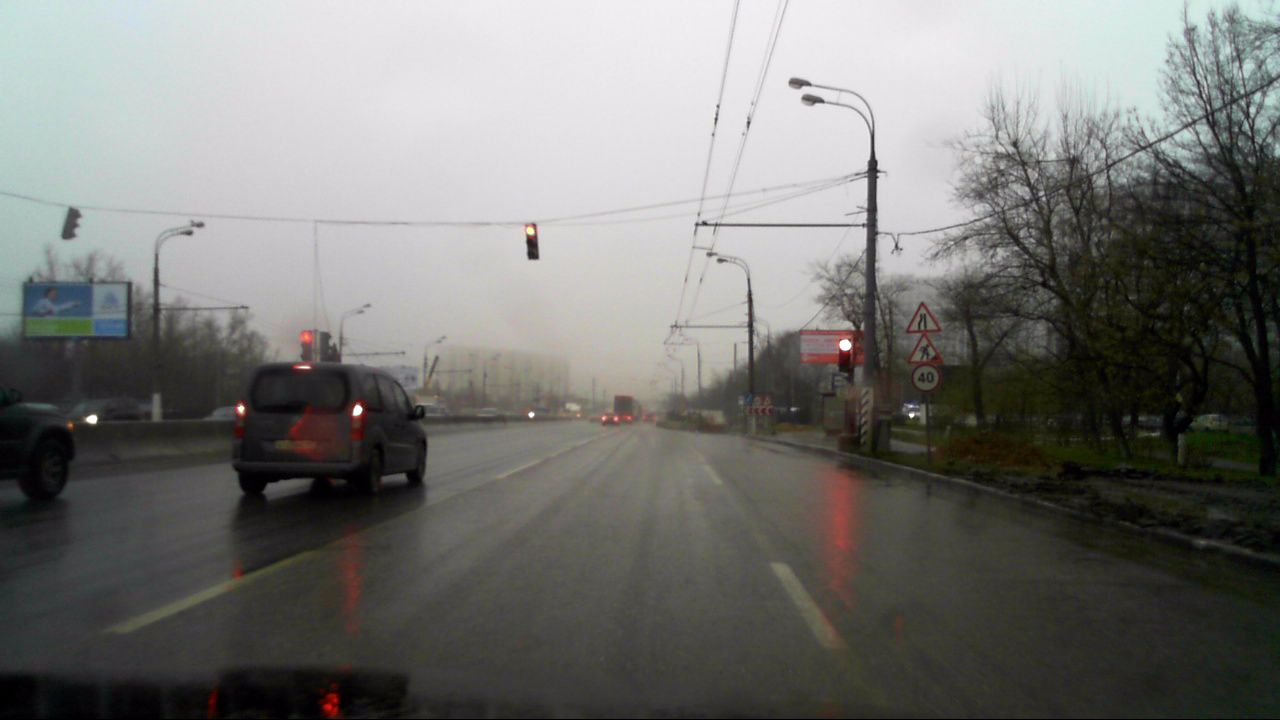speed_warning_40: (912, 366, 938, 391)
